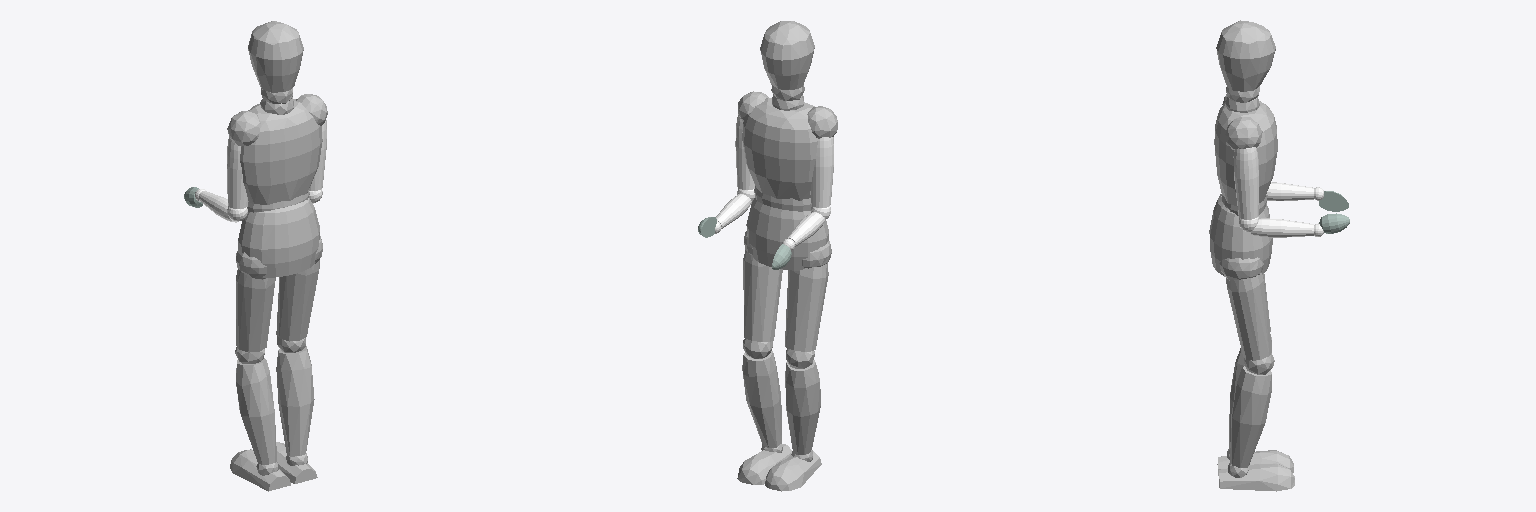
The robot description file, URDF, robot "mannequin":
<?xml version="1.0"?>
<robot name="mannequin">
    <!-- Puts mannequin in Gazebo sim -->
    <gazebo>
        <plugin name="gazebo_ros_control" filename="libgazebo_ros_control.so">
            <robotNamespace>/mannequin</robotNamespace>
        </plugin>
    </gazebo>

    <!-- * * * Link Definitions * * * -->
    <link name="base_link">
        <visual>
            <origin rpy="0.1 0 0" xyz="0 0 0"/>
            <geometry>
                <box size="0.01 0.01 0.01"/>
            </geometry>
        </visual>
	</link>
    <gazebo reference="base_link">
        <kp>1000.0</kp>
        <kd>1000.0</kd>
        <mu1>10.0</mu1>
        <mu2>10.0</mu2>
        <material>Gazebo/White</material>
    </gazebo>


    <link name="body_link">
        <visual>
            <origin rpy="0.0 0 0" xyz="0 0 0"/>
            <geometry>
                <!-- Material color set to white in blender -->
                <mesh filename="package://model_description/models/mannequin/meshes/body_formatted.dae"/>
            </geometry>
        </visual>
        <collision>
            <origin xyz="0 0 0" rpy="0 0 0"/>
            <geometry>
                <cylinder radius="0.2" length="0.1"/>
            </geometry>
        </collision>
        <inertial>
            <origin xyz="0 0 0" rpy="0 0 0"/>
            <mass value="53.6" /> <!-- Assuming 60kg person, with 3.2x2=6.4 kg in arm meat -->
            <!-- interial calc based on box with: width=0.33 length = 0.67 height = 1.7 -->
            <inertia ixx="13.3950866667" ixy="0.0" ixz="0.0" iyy="14.9137533333" iyz="0.0" izz="2.49150666667"/>
        </inertial>
	</link>
    <gazebo reference="body_link">
        <kp>5000.0</kp> <!-- kp, kd need to be this high to avoid falling through the floor -->
        <kd>5000.0</kd>
        <mu1>10.0</mu1>
        <mu2>10.0</mu2>
        <material>Gazebo/White</material>
    </gazebo>
    
    <link name="left_shoulder_roll_link">
        <visual>
            <origin rpy="0 0 0" xyz="0 0 0"/>
            <geometry>
                <sphere radius="0.03"/>
            </geometry>
        </visual>
        <!-- joint included for mobility, does not need collision-->
        <inertial>
            <origin xyz="0 0 0" rpy="0 0 0"/>
            <mass value="0.001" />
            <inertia ixx="3.6e-07" ixy="0.0" ixz="0.0" iyy="3.6e-07" iyz="0.0" izz="3.6e-07"/>
        </inertial>
    </link>
    <gazebo reference="left_shoulder_roll_link">
        <kp>10000.0</kp>
        <kd>10000.0</kd>
        <mu1>10.0</mu1>
        <mu2>10.0</mu2>
        <material>Gazebo/White</material>
    </gazebo>
    
    <link name="left_shoulder_pitch_link">
        <visual>
            <origin rpy="0 0 0" xyz="0 0 0"/>
            <geometry>
                <sphere radius="0.03"/>
            </geometry>
        </visual>
        <!-- joint included for mobility, does not need collision-->
        <inertial>
            <origin xyz="0 0 0" rpy="0 0 0"/>
            <mass value="0.001" />
            <inertia ixx="3.6e-07" ixy="0.0" ixz="0.0" iyy="3.6e-07" iyz="0.0" izz="3.6e-07"/>
        </inertial>
    </link>
    <gazebo reference="left_shoulder_pitch_link">
        <kp>10000.0</kp>
        <kd>10000.0</kd>
        <mu1>10.0</mu1>
        <mu2>10.0</mu2>
        <material>Gazebo/White</material>
    </gazebo>
    
    <link name="left_shoulder_yaw_link">
        <visual>
            <origin rpy="0 0 0" xyz="0 0 0"/>
            <geometry>
                <sphere radius="0.03"/>
            </geometry>
        </visual>
        <!-- joint included for mobility, does not need collision-->
        <inertial>
            <origin xyz="0 0 0" rpy="0 0 0"/>
            <mass value="0.001" />
            <inertia ixx="3.6e-07" ixy="0.0" ixz="0.0" iyy="3.6e-07" iyz="0.0" izz="3.6e-07"/>
        </inertial>
    </link>
    <gazebo reference="left_shoulder_yaw_link">
        <kp>10000.0</kp>
        <kd>10000.0</kd>
        <mu1>10.0</mu1>
        <mu2>10.0</mu2>
        <material>Gazebo/White</material>
    </gazebo>
    


    <link name="upper_left_arm_link">
        <visual>
            <origin rpy="0 0 0" xyz="0 0 0"/>
            <geometry>
                <mesh filename="package://model_description/models/mannequin/meshes/upper_arm_formatted.dae"/>
            </geometry>
        </visual>
        <collision>
            <origin xyz="0 0 0" rpy="0 0 0"/>
            <geometry>
                <cylinder radius="0.03" length="0.3"/>
            </geometry>
        </collision>
        <inertial>
            <origin xyz="0 0 0" rpy="0 0 0"/>
            <mass value="1.6" /> <!-- Assuming 3.2kg arm, and half of it is upper arm-->
            <inertia ixx="0.01236" ixy="0.0" ixz="0.0" iyy="0.01236" iyz="0.0" izz="0.00072"/>
        </inertial>
    </link>
    <gazebo reference="upper_left_arm_link">
        <kp>1000.0</kp>
        <kd>1000.0</kd>
        <mu1>10.0</mu1>
        <mu2>10.0</mu2>
        <material>Gazebo/White</material>
    </gazebo>
    

    <link name="lower_left_arm_link">
        <visual>
            <origin rpy="0 0 0" xyz="0 0 0"/>
            <geometry>
                <mesh filename="package://model_description/models/mannequin/meshes/lower_arm_formatted.dae"/>
            </geometry>
        </visual>
        <collision>
            <origin xyz="0 0 0" rpy="0 0 0"/>
            <geometry>
                <cylinder radius="0.03" length="0.3"/>
            </geometry>
        </collision>
        <inertial>
            <origin xyz="0 0 0" rpy="0 0 0"/>
            <mass value="1.6" /> <!-- Assuming 3.2kg arm, and half of it is lower arm-->
            <inertia ixx="0.01236" ixy="0.0" ixz="0.0" iyy="0.01236" iyz="0.0" izz="0.00072"/>
        </inertial>
    </link>
    <gazebo reference="lower_left_arm_link">
        <kp>1000.0</kp>
        <kd>1000.0</kd>
        <mu1>10.0</mu1>
        <mu2>10.0</mu2>
        <material>Gazebo/White</material>
    </gazebo>
    
    
    <link name="left_hand_link">
        <visual>
            <origin rpy="0 0 0" xyz="0 0 0"/>
            <geometry>
                <mesh filename="package://model_description/models/mannequin/meshes/hand_formatted.dae"/>
            </geometry>
        </visual>
        <collision>
            <origin xyz="0 0 0" rpy="0 0 0"/>
            <geometry>
                <box size="0.03 0.01 0.05"/>
            </geometry>
        </collision>
        <inertial>
            <origin xyz="0 0 0" rpy="0 0 0"/>
            <mass value="0.3" /> <!-- Assuming 60kg person, hands are 0.5% of weight, hand is 0.3kg -->
            <!-- body segment percentages from https://exrx.net/Kinesiology/Segments-->
            <inertia ixx="6.5e-05" ixy="0.0" ixz="0.0" iyy="8.5e-05" iyz="0.0" izz="2.5e-05"/>
        </inertial>
    </link>
    <gazebo reference="left_hand_link">
        <kp>1000.0</kp>
        <kd>1000.0</kd>
        <mu1>10.0</mu1>
        <mu2>10.0</mu2>
        <material>Gazebo/White</material>
    </gazebo>



    <!-- **** Joint Definitions **** -->
    <joint name="base_joint" type="fixed">
        <parent link="base_link"/>
        <child link="body_link"/>
    </joint>
    
    <!-- Left Arm -->
    <joint name="left_shoulder_roll_joint" type="continuous"> <!-- lift shoulder forward -->
        <parent link="body_link"/>
        <child link="left_shoulder_roll_link"/>
        <axis xyz="1 0 0"/>
        <origin xyz="0.14 0.04 1.32" rpy="0 0 0"/>
    </joint>
    <joint name="left_shoulder_pitch_joint" type="revolute"> <!-- lift shoulder up and to the right, (-) commands -->
        <parent link="left_shoulder_roll_link"/>
        <child link="left_shoulder_pitch_link"/>
        <axis xyz="0 1 0"/>
        <origin xyz="0 0 0" rpy="0 0 0"/>
        <limit lower="-1.57" upper="0" effort="4" velocity="0.5"/>
    </joint>
    <joint name="left_shoulder_yaw_joint" type="revolute">
        <parent link="left_shoulder_pitch_link"/>
        <child link="left_shoulder_yaw_link"/>
        <axis xyz="0 0 1"/>
        <origin xyz="0 0 0" rpy="0 0 0"/>
        <limit lower="-1.1" upper="1.5" effort="1" velocity="0.5"/>
    </joint>
    
    
    <joint name="left_shoulder_joint" type="fixed">
        <parent link="left_shoulder_yaw_link"/>
        <child link="upper_left_arm_link"/>
    </joint>
    <joint name="left_elbow_joint" type="revolute">
        <parent link="upper_left_arm_link"/>
        <child link="lower_left_arm_link"/>
        <axis xyz="1 0 0"/>
        <limit lower="0.01" upper="3.0" effort="1" velocity="0.5"/>
        <origin xyz="-0.01 0.012 -0.322" rpy="0 0 0"/>
    </joint>
    <joint name="left_wrist_joint" type="fixed">
        <parent link="lower_left_arm_link"/>
        <child link="left_hand_link"/>=
        <origin xyz="0.0 0.015 -0.23" rpy="0 0 3.14"/>
    </joint>
    
    
    <!-- **** Controller Definitions **** -->
    
    <!-- Left arm -->
    <transmission name="leftshoulderrolltran">
        <type>transmission_interface/SimpleTransmission</type>
        <joint name="left_shoulder_roll_joint">
            <hardwareInterface>hardware_interface/EffortJointInterface</hardwareInterface>
        </joint>
        <actuator name="leftshoulderrollmotor">
            <hardwareInterface>hardware_interface/EffortJointInterface</hardwareInterface>
            <mechanicalReduction>1</mechanicalReduction>
        </actuator>
    </transmission>
    <transmission name="leftshoulderpitchtran">
        <type>transmission_interface/SimpleTransmission</type>
        <joint name="left_shoulder_pitch_joint">
            <hardwareInterface>hardware_interface/EffortJointInterface</hardwareInterface>
        </joint>
        <actuator name="leftshoulderpitchmotor">
            <hardwareInterface>hardware_interface/EffortJointInterface</hardwareInterface>
            <mechanicalReduction>1</mechanicalReduction>
        </actuator>
    </transmission>
    <transmission name="leftshoulderyawtran">
        <type>transmission_interface/SimpleTransmission</type>
        <joint name="left_shoulder_yaw_joint">
            <hardwareInterface>hardware_interface/EffortJointInterface</hardwareInterface>
        </joint>
        <actuator name="leftshoulderyawmotor">
            <hardwareInterface>hardware_interface/EffortJointInterface</hardwareInterface>
            <mechanicalReduction>1</mechanicalReduction>
        </actuator>
    </transmission>
    
    <transmission name="leftelbowtran">
        <type>transmission_interface/SimpleTransmission</type>
        <joint name="left_elbow_joint">
            <hardwareInterface>hardware_interface/EffortJointInterface</hardwareInterface>
        </joint>
        <actuator name="leftelbowmotor">
            <hardwareInterface>hardware_interface/EffortJointInterface</hardwareInterface>
            <mechanicalReduction>1</mechanicalReduction>
        </actuator>
    </transmission>
    
    
    
    
    <link name="right_shoulder_roll_link">
        <visual>
            <origin rpy="0 0 0" xyz="0 0 0"/>
            <geometry>
                <sphere radius="0.03"/>
            </geometry>
        </visual>
        <!-- joint included for mobility, does not need collision-->
        <inertial>
            <origin xyz="0 0 0" rpy="0 0 0"/>
            <mass value="0.001" />
            <inertia ixx="3.6e-07" ixy="0.0" ixz="0.0" iyy="3.6e-07" iyz="0.0" izz="3.6e-07"/>
        </inertial>
    </link>
    <gazebo reference="right_shoulder_roll_link">
        <kp>10000.0</kp>
        <kd>10000.0</kd>
        <mu1>10.0</mu1>
        <mu2>10.0</mu2>
        <material>Gazebo/White</material>
    </gazebo>
    
    <link name="right_shoulder_pitch_link">
        <visual>
            <origin rpy="0 0 0" xyz="0 0 0"/>
            <geometry>
                <sphere radius="0.03"/>
            </geometry>
        </visual>
        <!-- joint included for mobility, does not need collision-->
        <inertial>
            <origin xyz="0 0 0" rpy="0 0 0"/>
            <mass value="0.001" />
            <inertia ixx="3.6e-07" ixy="0.0" ixz="0.0" iyy="3.6e-07" iyz="0.0" izz="3.6e-07"/>
        </inertial>
    </link>
    <gazebo reference="right_shoulder_pitch_link">
        <kp>10000.0</kp>
        <kd>10000.0</kd>
        <mu1>10.0</mu1>
        <mu2>10.0</mu2>
        <material>Gazebo/White</material>
    </gazebo>
    
    <link name="right_shoulder_yaw_link">
        <visual>
            <origin rpy="0 0 0" xyz="0 0 0"/>
            <geometry>
                <sphere radius="0.03"/>
            </geometry>
        </visual>
        <!-- joint included for mobility, does not need collision-->
        <inertial>
            <origin xyz="0 0 0" rpy="0 0 0"/>
            <mass value="0.001" />
            <inertia ixx="3.6e-07" ixy="0.0" ixz="0.0" iyy="3.6e-07" iyz="0.0" izz="3.6e-07"/>
        </inertial>
    </link>
    <gazebo reference="right_shoulder_yaw_link">
        <kp>10000.0</kp>
        <kd>10000.0</kd>
        <mu1>10.0</mu1>
        <mu2>10.0</mu2>
        <material>Gazebo/White</material>
    </gazebo>
    


    <link name="upper_right_arm_link">
        <visual>
            <origin rpy="0 0 0" xyz="0 0 0"/>
            <geometry>
                <mesh filename="package://model_description/models/mannequin/meshes/upper_arm_formatted.dae"/>
            </geometry>
        </visual>
        <collision>
            <origin xyz="0 0 0" rpy="0 0 0"/>
            <geometry>
                <cylinder radius="0.03" length="0.3"/>
            </geometry>
        </collision>
        <inertial>
            <origin xyz="0 0 0" rpy="0 0 0"/>
            <mass value="1.6" /> <!-- Assuming 3.2kg arm, and half of it is upper arm-->
            <inertia ixx="0.01236" ixy="0.0" ixz="0.0" iyy="0.01236" iyz="0.0" izz="0.00072"/>
        </inertial>
    </link>
    <gazebo reference="upper_right_arm_link">
        <kp>1000.0</kp>
        <kd>1000.0</kd>
        <mu1>10.0</mu1>
        <mu2>10.0</mu2>
        <material>Gazebo/White</material>
    </gazebo>
    

    <link name="lower_right_arm_link">
        <visual>
            <origin rpy="0 0 0" xyz="0 0 0"/>
            <geometry>
                <mesh filename="package://model_description/models/mannequin/meshes/lower_arm_formatted.dae"/>
            </geometry>
        </visual>
        <collision>
            <origin xyz="0 0 0" rpy="0 0 0"/>
            <geometry>
                <cylinder radius="0.03" length="0.3"/>
            </geometry>
        </collision>
        <inertial>
            <origin xyz="0 0 0" rpy="0 0 0"/>
            <mass value="1.6" /> <!-- Assuming 3.2kg arm, and half of it is lower arm-->
            <inertia ixx="0.01236" ixy="0.0" ixz="0.0" iyy="0.01236" iyz="0.0" izz="0.00072"/>
        </inertial>
    </link>
    <gazebo reference="lower_right_arm_link">
        <kp>1000.0</kp>
        <kd>1000.0</kd>
        <mu1>10.0</mu1>
        <mu2>10.0</mu2>
        <material>Gazebo/White</material>
    </gazebo>
    
    
    <link name="right_hand_link">
        <visual>
            <origin rpy="0 0 0" xyz="0 0 0"/>
            <geometry>
                <mesh filename="package://model_description/models/mannequin/meshes/hand_formatted.dae"/>
            </geometry>
        </visual>
        <collision>
            <origin xyz="0 0 0" rpy="0 0 0"/>
            <geometry>
                <box size="0.03 0.01 0.05"/>
            </geometry>
        </collision>
        <inertial>
            <origin xyz="0 0 0" rpy="0 0 0"/>
            <mass value="0.3" /> <!-- Assuming 60kg person, hands are 0.5% of weight, hand is 0.3kg -->
            <!-- body segment percentages from https://exrx.net/Kinesiology/Segments-->
            <inertia ixx="6.5e-05" ixy="0.0" ixz="0.0" iyy="8.5e-05" iyz="0.0" izz="2.5e-05"/>
        </inertial>
    </link>
    <gazebo reference="right_hand_link">
        <kp>1000.0</kp>
        <kd>1000.0</kd>
        <mu1>10.0</mu1>
        <mu2>10.0</mu2>
        <material>Gazebo/White</material>
    </gazebo>



    <!-- **** Joint Definitions **** -->
    
    <!-- Right Arm -->
    <joint name="right_shoulder_roll_joint" type="continuous"> <!-- lift shoulder forward -->
        <parent link="body_link"/>
        <child link="right_shoulder_roll_link"/>
        <axis xyz="1 0 0"/>
        <origin xyz="-0.15 0.04 1.32" rpy="0 0 0"/>
    </joint>
    <joint name="right_shoulder_pitch_joint" type="revolute"> <!-- lift shoulder up and to the right, (+) commands -->
        <parent link="right_shoulder_roll_link"/>
        <child link="right_shoulder_pitch_link"/>
        <axis xyz="0 1 0"/>
        <origin xyz="0 0 0" rpy="0 0 0"/>
        <limit lower="0" upper="1.57" effort="4" velocity="0.5"/>
    </joint>
    <joint name="right_shoulder_yaw_joint" type="revolute">
        <parent link="right_shoulder_pitch_link"/>
        <child link="right_shoulder_yaw_link"/>
        <axis xyz="0 0 1"/>
        <origin xyz="0 0 0" rpy="0 0 0"/>
        <limit lower="-1.5" upper="1.1" effort="1" velocity="0.5"/>
    </joint>
    
    
    <joint name="right_shoulder_joint" type="fixed">
        <parent link="right_shoulder_yaw_link"/>
        <child link="upper_right_arm_link"/>
    </joint>
    <joint name="right_elbow_joint" type="revolute">
        <parent link="upper_right_arm_link"/>
        <child link="lower_right_arm_link"/>
        <axis xyz="1 0 0"/>
        <limit lower="0.01" upper="3.0" effort="1" velocity="0.5"/>
        <origin xyz="-0.01 0.012 -0.322" rpy="0 0 0"/>
    </joint>
    <joint name="right_wrist_joint" type="fixed">
        <parent link="lower_right_arm_link"/>
        <child link="right_hand_link"/>=
        <origin xyz="0.0 -0.015 -0.23" rpy="0 0 0"/>
    </joint>
    
    
    <!-- **** Controller Definitions **** -->
    
    <!-- Right arm -->
    <transmission name="rightshoulderrolltran">
        <type>transmission_interface/SimpleTransmission</type>
        <joint name="right_shoulder_roll_joint">
            <hardwareInterface>hardware_interface/EffortJointInterface</hardwareInterface>
        </joint>
        <actuator name="rightshoulderrollmotor">
            <hardwareInterface>hardware_interface/EffortJointInterface</hardwareInterface>
            <mechanicalReduction>1</mechanicalReduction>
        </actuator>
    </transmission>
    <transmission name="rightshoulderpitchtran">
        <type>transmission_interface/SimpleTransmission</type>
        <joint name="right_shoulder_pitch_joint">
            <hardwareInterface>hardware_interface/EffortJointInterface</hardwareInterface>
        </joint>
        <actuator name="rightshoulderpitchmotor">
            <hardwareInterface>hardware_interface/EffortJointInterface</hardwareInterface>
            <mechanicalReduction>1</mechanicalReduction>
        </actuator>
    </transmission>
    <transmission name="rightshoulderyawtran">
        <type>transmission_interface/SimpleTransmission</type>
        <joint name="right_shoulder_yaw_joint">
            <hardwareInterface>hardware_interface/EffortJointInterface</hardwareInterface>
        </joint>
        <actuator name="rightshoulderyawmotor">
            <hardwareInterface>hardware_interface/EffortJointInterface</hardwareInterface>
            <mechanicalReduction>1</mechanicalReduction>
        </actuator>
    </transmission>
    
    <transmission name="rightelbowtran">
        <type>transmission_interface/SimpleTransmission</type>
        <joint name="right_elbow_joint">
            <hardwareInterface>hardware_interface/EffortJointInterface</hardwareInterface>
        </joint>
        <actuator name="rightelbowmotor">
            <hardwareInterface>hardware_interface/EffortJointInterface</hardwareInterface>
            <mechanicalReduction>1</mechanicalReduction>
        </actuator>
    </transmission>

</robot>

--- Facts derived from the render (not from the file) ---
The picture shows the robot from 3 angles, left to right: view 1: azimuth 30°, elevation 25°; view 2: azimuth 150°, elevation 25°; view 3: azimuth 270°, elevation 25°; orthographic projection.
Robot: mannequin — 14 links, 13 joints (6 revolute, 2 continuous, 5 fixed); root link base_link; default pose: all joints at 0 but 2 set to mid-range because 0 is outside their limits (left_elbow_joint = 1.5, right_elbow_joint = 1.5).
Links seen in each view (by area): view 1: body_link, upper_right_arm_link, upper_left_arm_link, lower_right_arm_link; view 2: body_link, upper_right_arm_link, upper_left_arm_link, lower_right_arm_link, lower_left_arm_link; view 3: body_link, upper_left_arm_link, lower_left_arm_link, lower_right_arm_link.
Link boxes in pixels (left/top/right/bottom): body_link: left=227, top=21, right=327, bottom=491; upper_right_arm_link: left=227, top=138, right=247, bottom=221; upper_left_arm_link: left=309, top=120, right=326, bottom=202; lower_right_arm_link: left=195, top=189, right=236, bottom=222; body_link: left=737, top=21, right=837, bottom=491; upper_right_arm_link: left=810, top=137, right=833, bottom=218; upper_left_arm_link: left=735, top=115, right=754, bottom=201; lower_right_arm_link: left=782, top=212, right=825, bottom=250; lower_left_arm_link: left=715, top=194, right=751, bottom=233; body_link: left=1209, top=20, right=1294, bottom=491; upper_left_arm_link: left=1233, top=147, right=1258, bottom=231; lower_left_arm_link: left=1251, top=218, right=1323, bottom=237; lower_right_arm_link: left=1266, top=182, right=1323, bottom=200.
Bounding box of the posed robot: 0.3778 × 0.4756 × 1.69 m (x, y, z).
7 mesh visuals loaded from 4 distinct referenced files (4 Collada DAE).